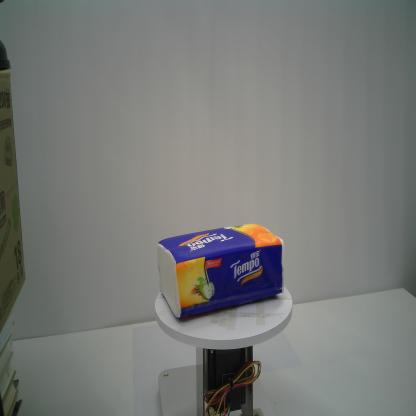Tissue: (155, 222, 286, 321)
